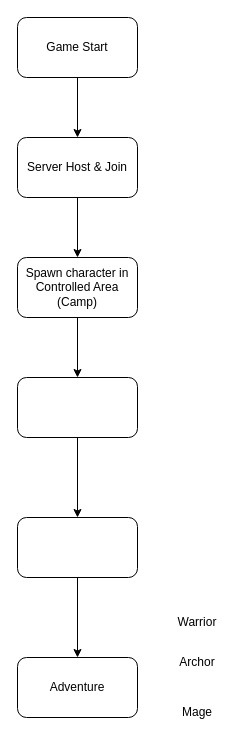
Some shapes in this 245 by 745 pixel diagram are drawn without their labels. Each missing label, with the box of its shape:
Build your base tent and shared area: (16, 376, 138, 438)
Go on the mission board: (16, 516, 138, 578)
